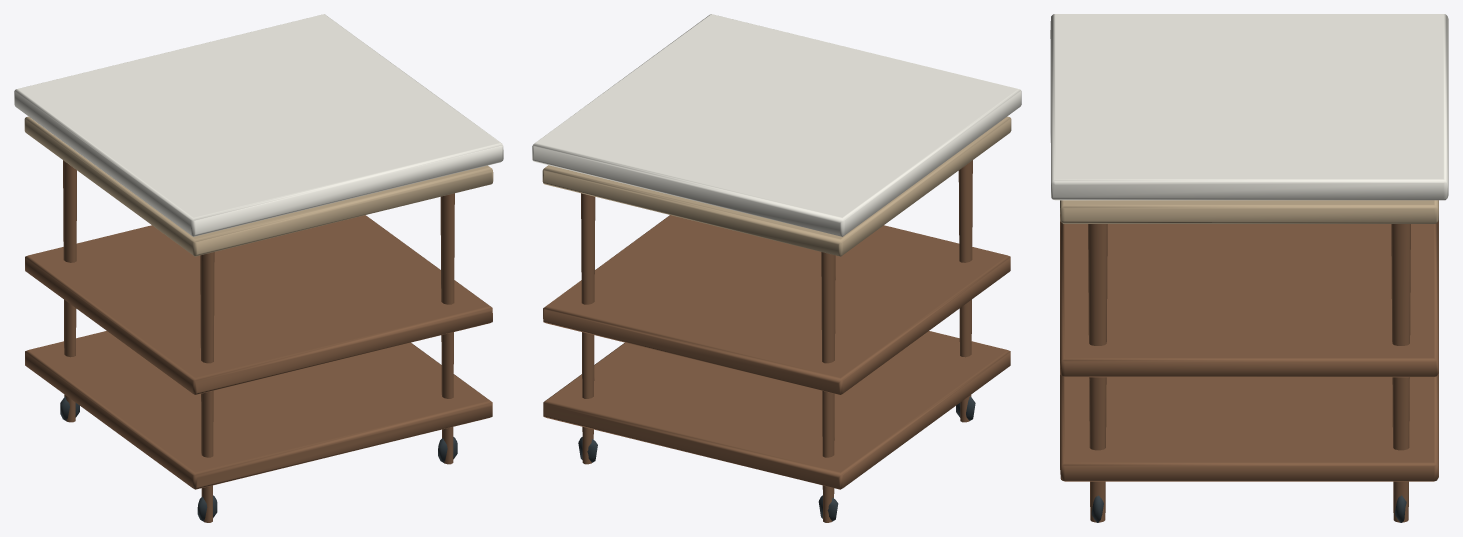
The model's file is cabinet-19-3.lod.glb.
3 views of the same model, side by side, from view 1: azimuth 30°, elevation 25°; view 2: azimuth 150°, elevation 25°; view 3: azimuth 270°, elevation 25° (orthographic). The views are drawn at different scales.
Parts seen in each view (by area): view 1: part (×2), worktop, upholstery; view 2: part (×2), worktop, upholstery; view 3: part (×2), worktop, upholstery.
Boxes of the visible parts, x1,y1,x2,y2 form: part (×2): [25, 160, 492, 522]; worktop: [14, 14, 503, 236]; upholstery: [24, 116, 493, 256]; part (×2): [543, 160, 1010, 522]; worktop: [532, 14, 1021, 236]; upholstery: [542, 116, 1011, 256]; part (×2): [1060, 214, 1438, 522]; worktop: [1050, 14, 1448, 200]; upholstery: [1060, 200, 1438, 223].
Bounding box in the file's own units: 0.9999 × 1 × 1.
